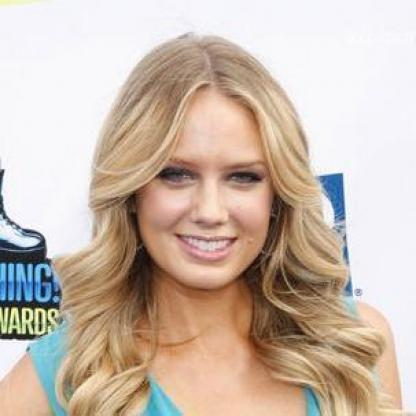long-hair: (44, 290, 379, 336)
